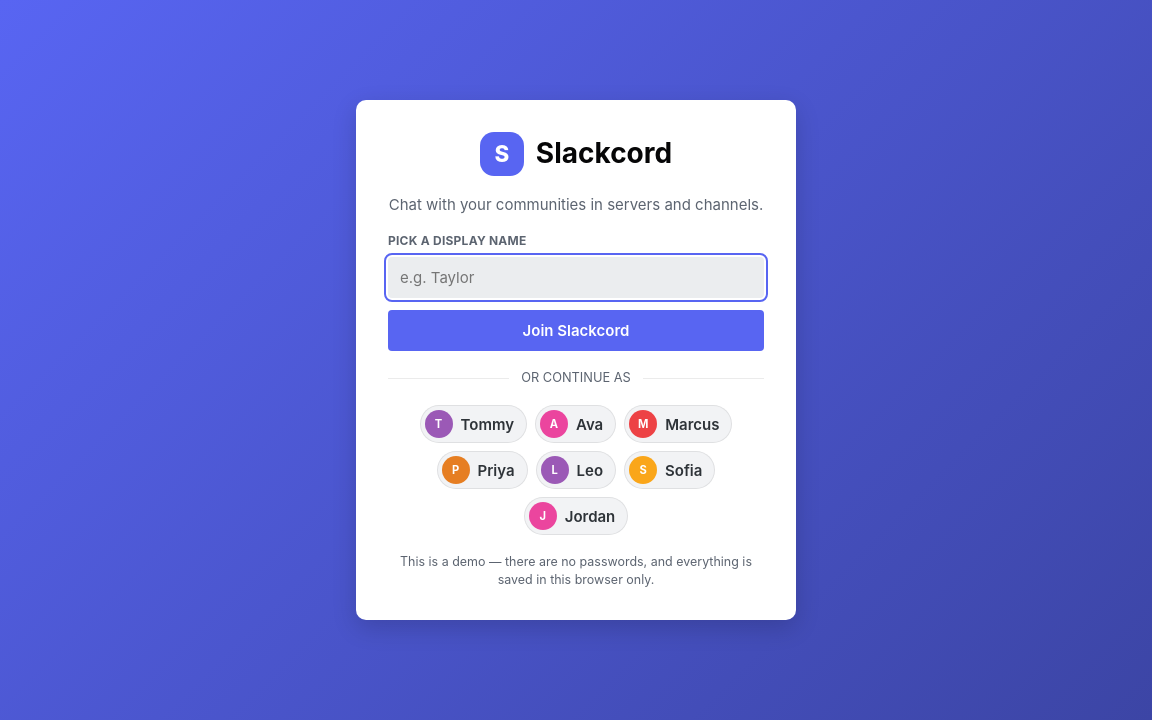
Test case: creating a channel switches to it
Type "Taylor" into the field labelled "Pick a display name" at point(576, 278), box 388,258 -> 764,298
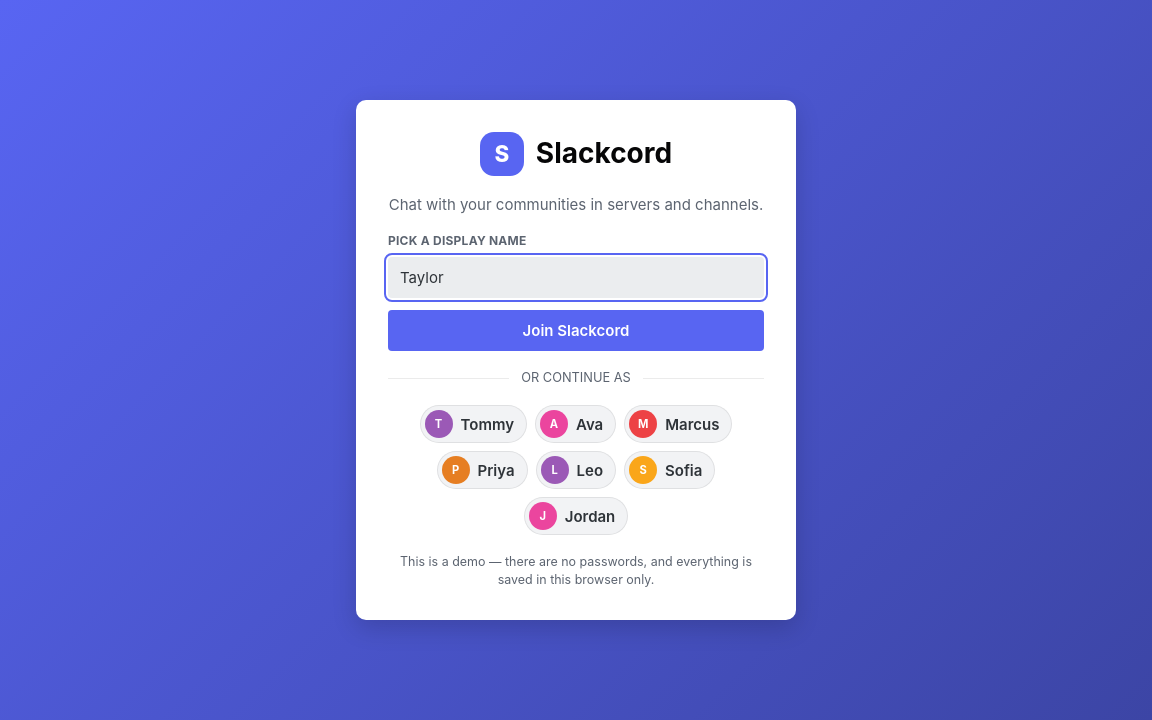
Click the button "Join Slackcord" at point(576, 331), box 388,310 -> 764,352
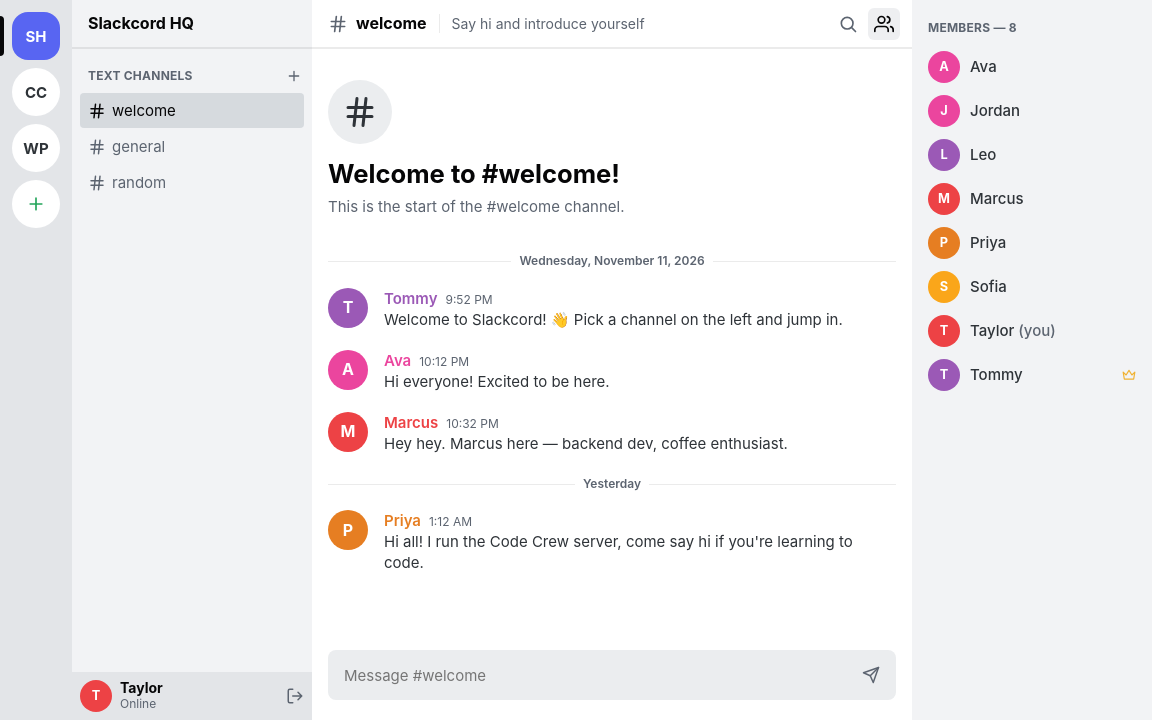
Click the button named "Create channel" at point(292, 76), box 280,64 -> 304,88
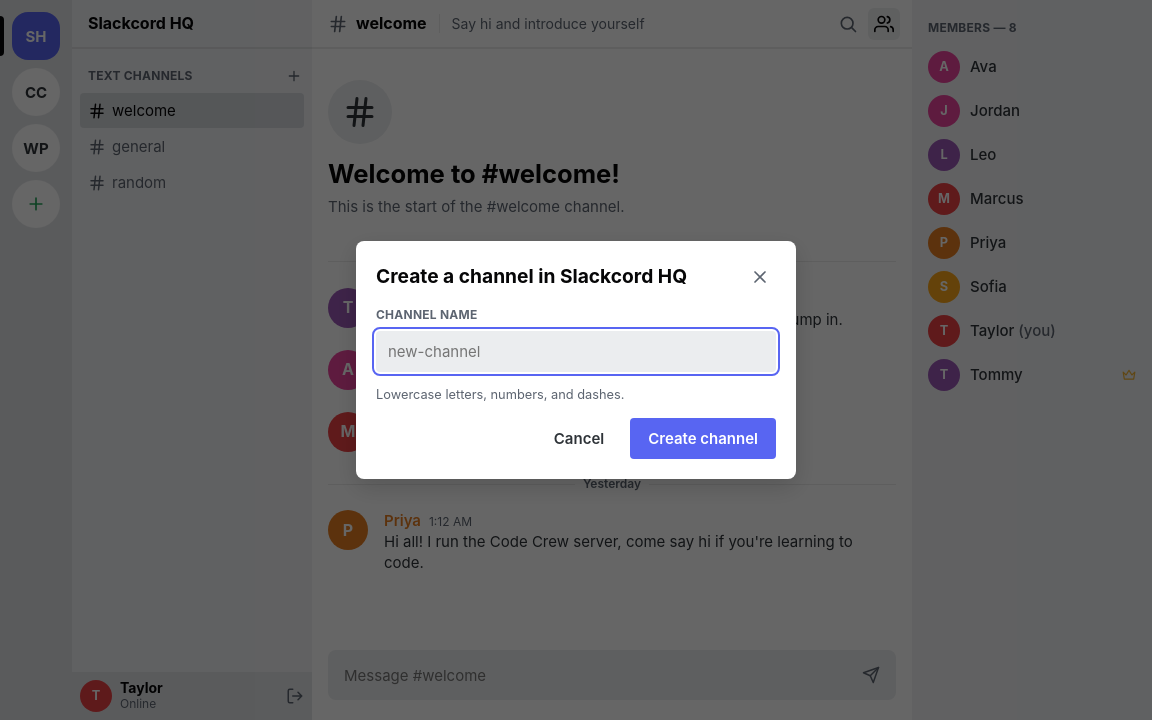
Type "Book Club" into the field labelled "Channel name" at point(576, 352), box 376,331 -> 776,372
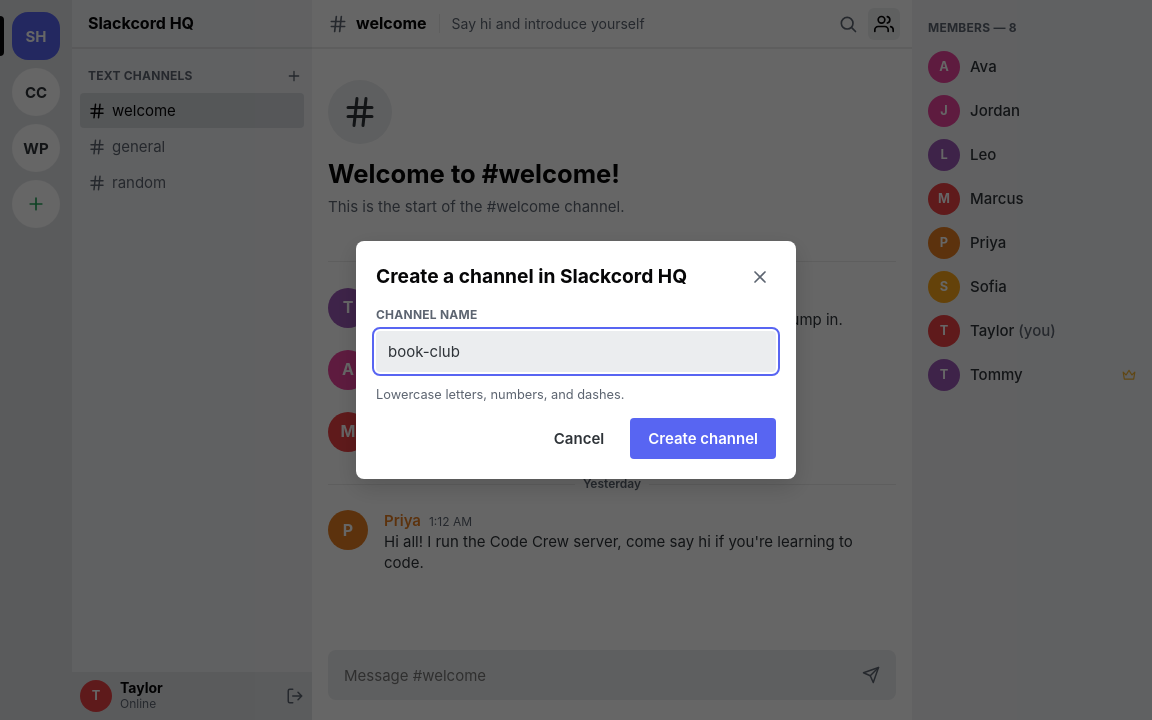
Click the button "Create channel" at point(703, 439), box 630,418 -> 776,459
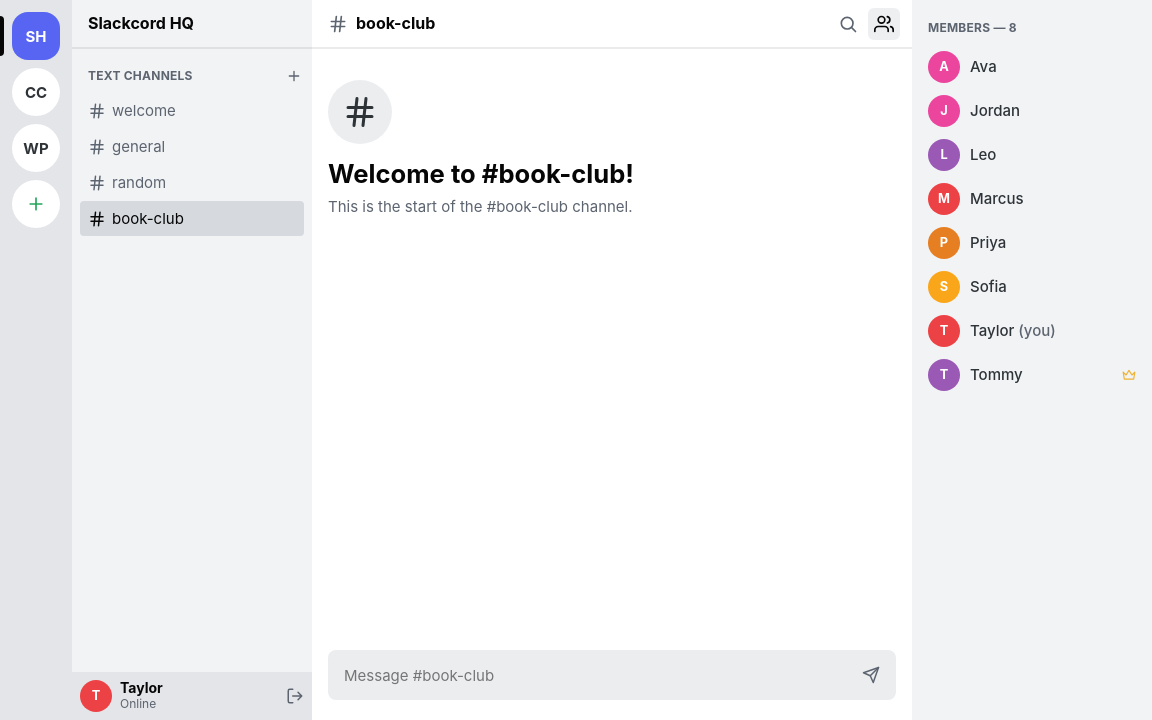
Check: the heading "book-club" is shown, box 356,12 -> 435,35
